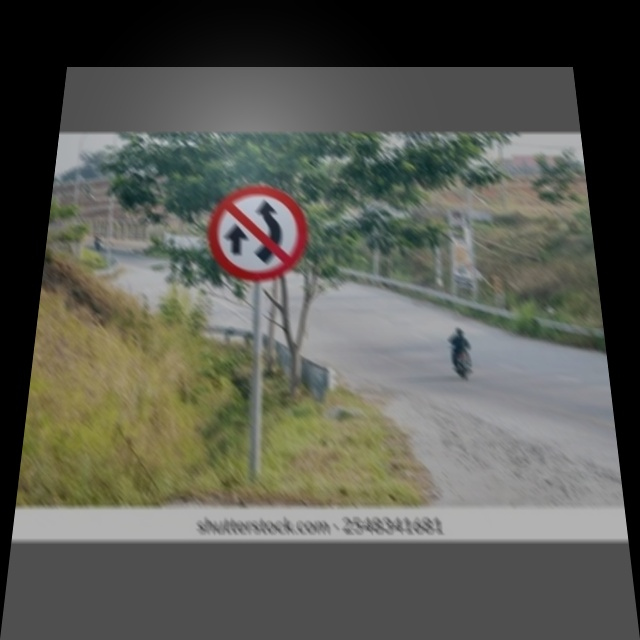Overtaking_Prohibited: (208, 184, 305, 279)
